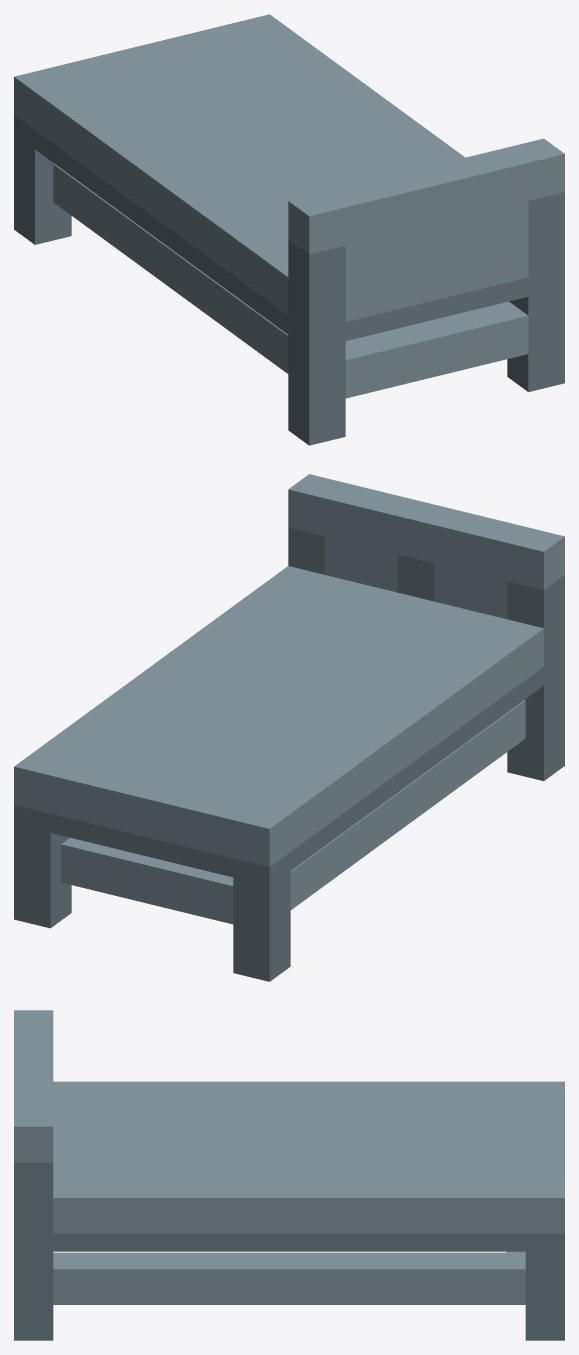
The model's file is banco_carpintero_ribera_01.glb.
The picture shows the model from 3 angles, top to bottom: view 1: azimuth 30°, elevation 25°; view 2: azimuth 150°, elevation 25°; view 3: azimuth 270°, elevation 25°; orthographic projection. The views are drawn at different scales.
Parts seen in each view (by area): view 1: banco_carpintero_ribera; view 2: banco_carpintero_ribera; view 3: banco_carpintero_ribera.
Boxes of the visible parts, x1=… form: banco_carpintero_ribera: x1=14, y1=14, x2=564, y2=445; banco_carpintero_ribera: x1=14, y1=474, x2=564, y2=981; banco_carpintero_ribera: x1=14, y1=1010, x2=564, y2=1340.
Bounding box in the file's own units: 1 × 0.8571 × 2.
